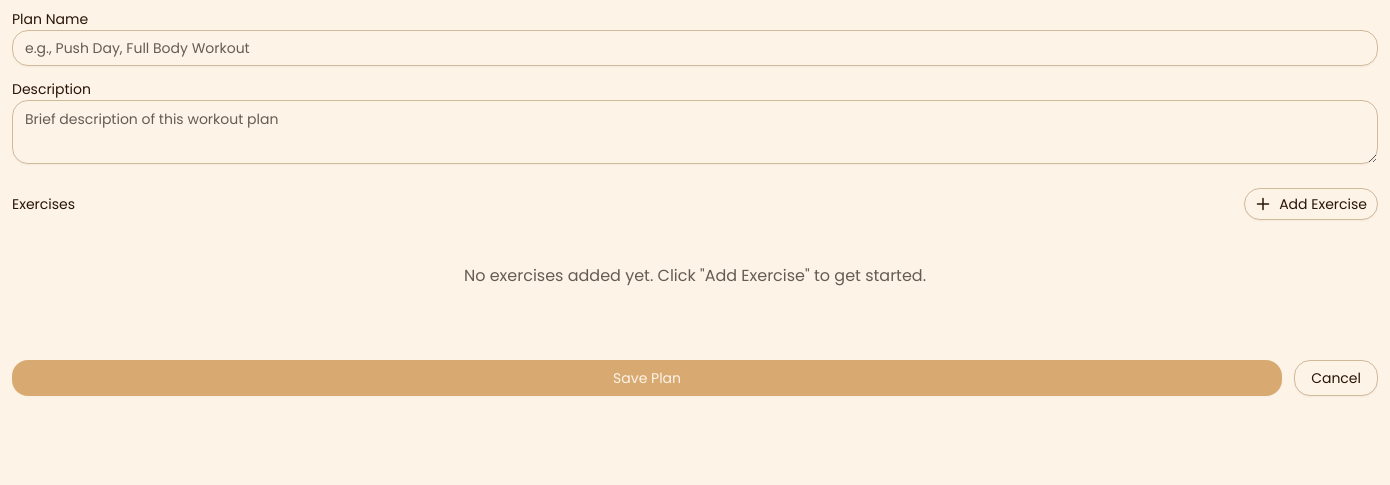
PlanEditor - Accessibility › should have accessible labels for exercise configuration fields
// Add an exercise first
Click the button "Add Exercise" at (1311, 204), box x1=1244 y1=188 x2=1378 y2=220
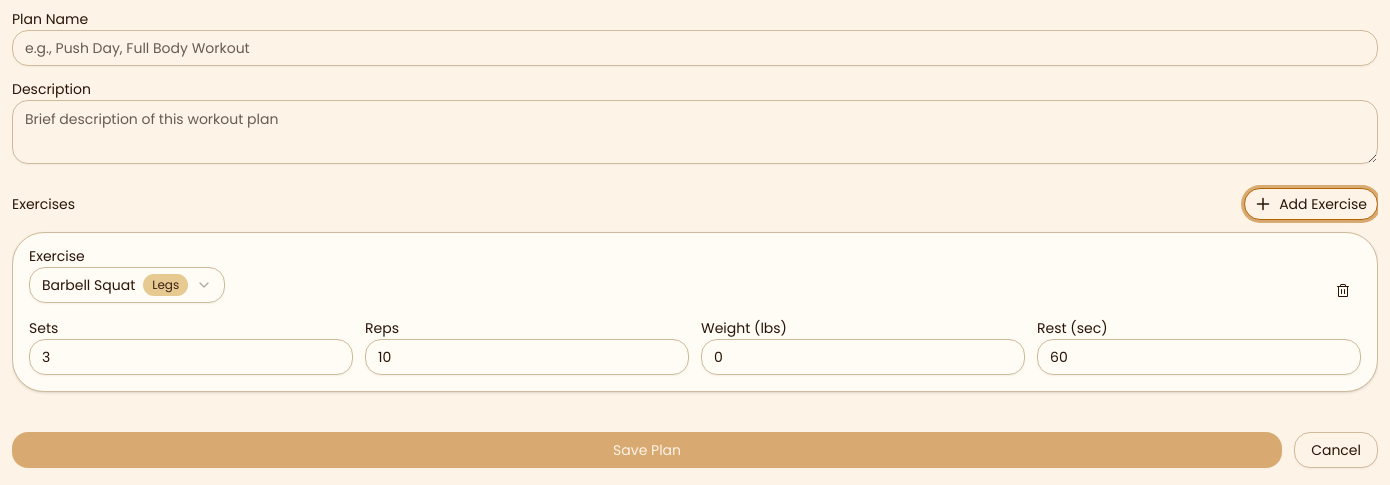
Check: the dropdown named "Exercise" is shown, box x1=29 y1=267 x2=225 y2=303
Check: the number field labelled "Sets" is shown, box x1=29 y1=339 x2=353 y2=375
Check: the number field labelled "Reps" is shown, box x1=365 y1=339 x2=689 y2=375
